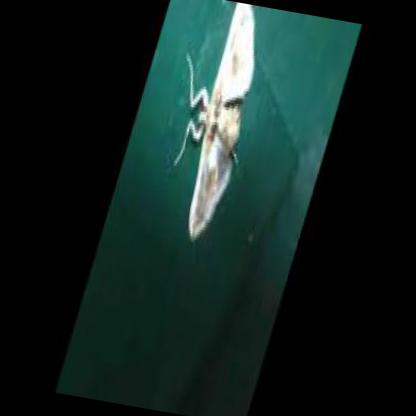leucinodes: (185, 4, 256, 237)
